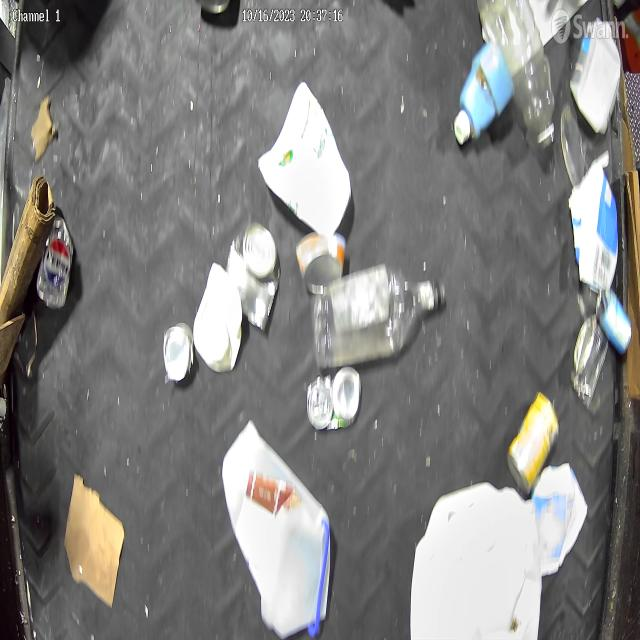can: (569, 15, 628, 140), (225, 224, 279, 330), (302, 364, 365, 439), (506, 387, 554, 483), (292, 226, 352, 290), (37, 205, 73, 311), (574, 304, 609, 412), (595, 280, 633, 362), (162, 314, 199, 382)
milk_jug: (217, 426, 335, 640), (407, 483, 546, 640)
plastic_bottle: (482, 3, 558, 161)
